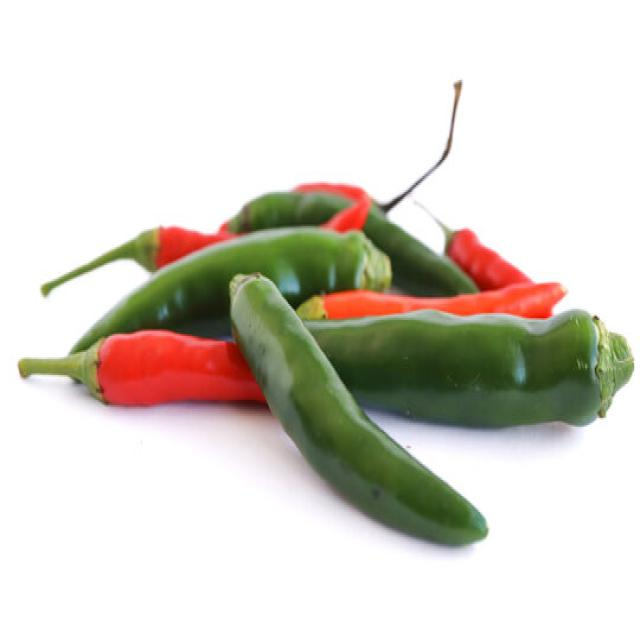Bottle Gourd: (226, 268, 488, 546)
Chilli: (18, 304, 633, 427), (68, 224, 392, 356), (55, 190, 387, 306), (290, 76, 462, 217), (290, 180, 479, 295), (17, 327, 266, 407), (39, 222, 235, 297), (295, 279, 568, 320), (413, 197, 532, 290)
